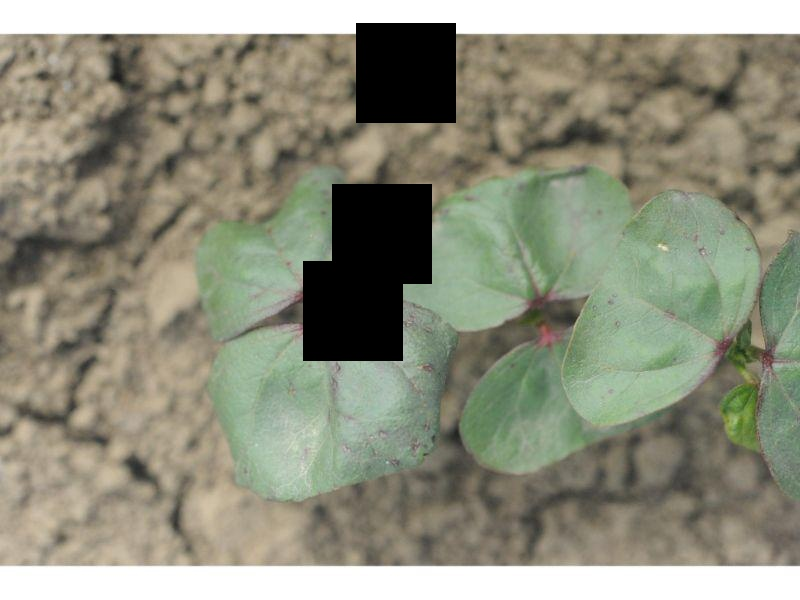cotton: (194, 164, 800, 501)
